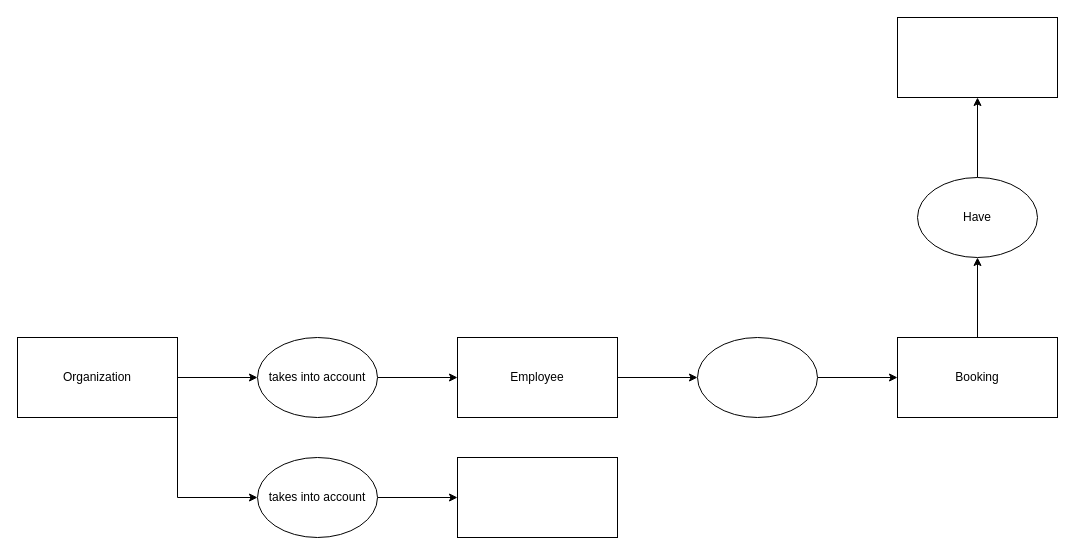
Some shapes in this 1075 by 555 pixel diagram are drawn without their labels. The centre of each missing label's shape, as x and y in pixels:
"Condition" belongs at [977,57].
"Conversation room" belongs at [537,497].
"Create" belongs at [757,377].
